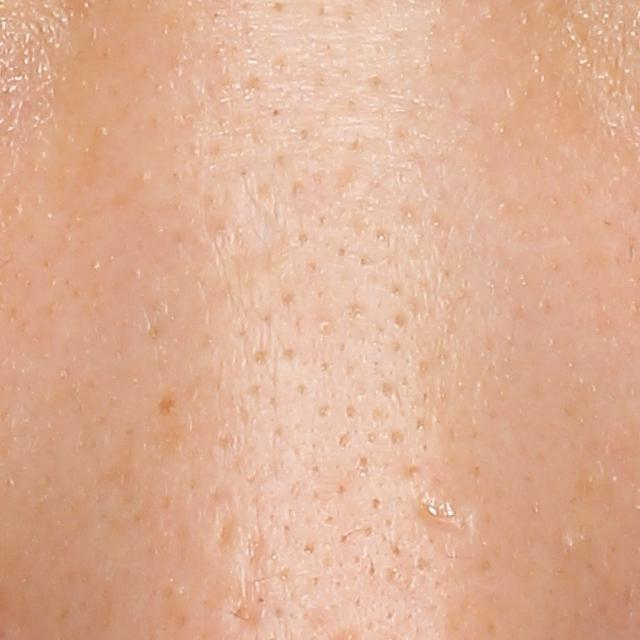atrophic_scar: (408, 492, 480, 544), (232, 595, 263, 636), (219, 513, 242, 552), (247, 536, 268, 577)
melasma: (158, 390, 178, 416)
